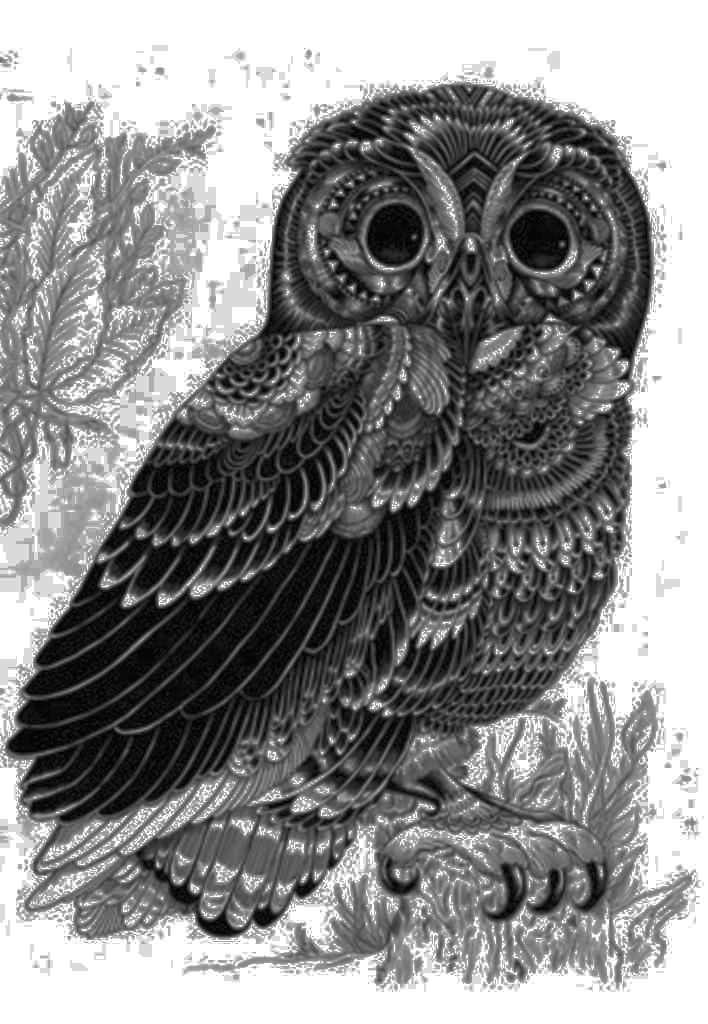Owl: (0, 74, 655, 922)
